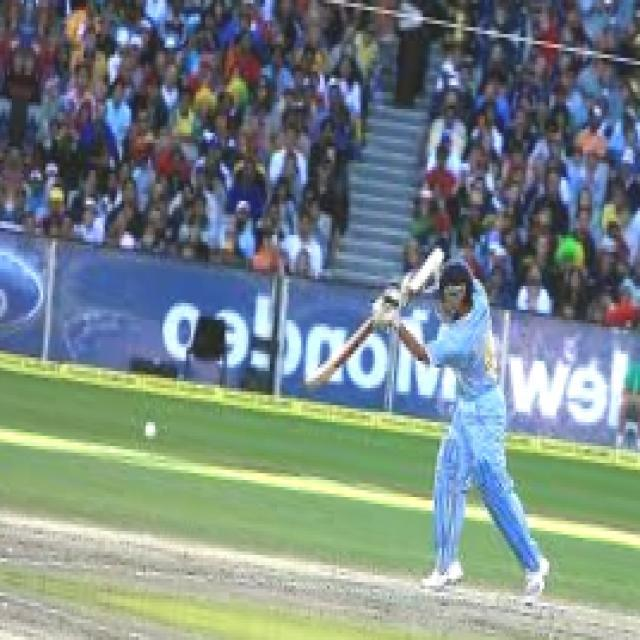bat: (286, 318, 382, 403)
toe: (291, 369, 335, 397)
